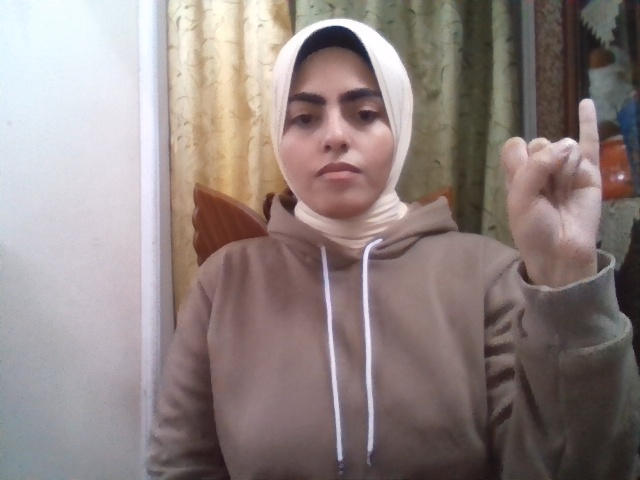I: (502, 98, 602, 272)
